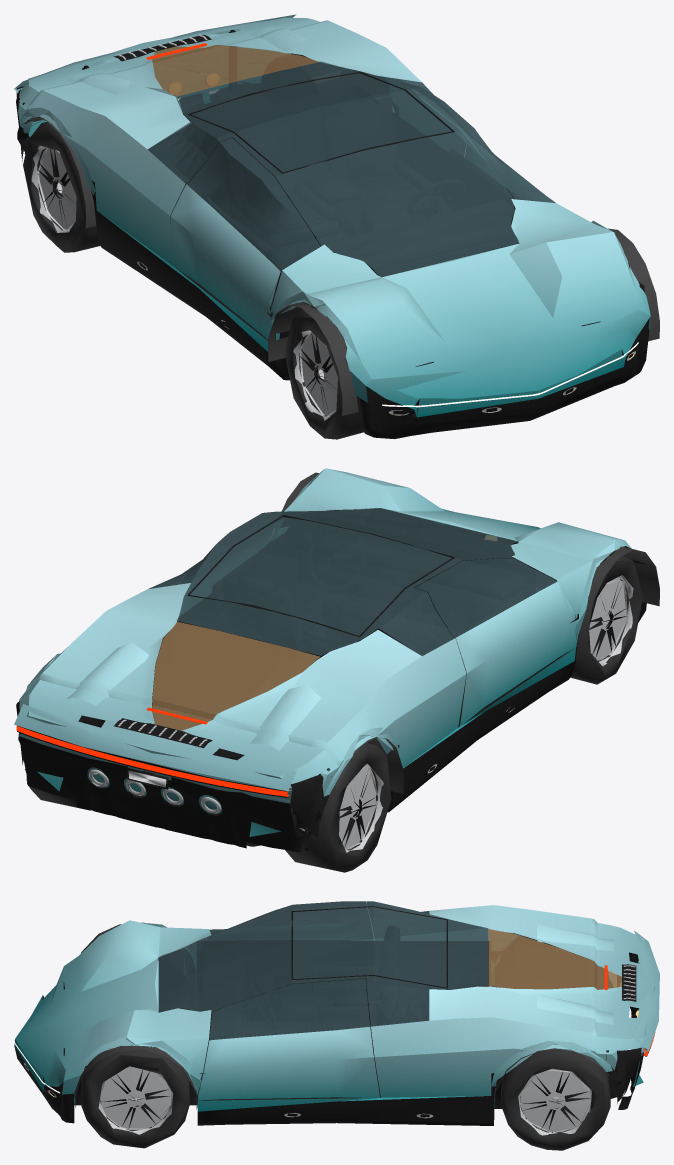
Rendered from roadsterII_cyan_phone.glb.
3 renders of one model, top to bottom at view 1: azimuth 30°, elevation 25°; view 2: azimuth 150°, elevation 25°; view 3: azimuth 270°, elevation 25°, orthographic. The views are drawn at different scales.
Parts seen in each view (by area): view 1: Body, Wheels; view 2: Body, Wheels; view 3: Body, Wheels.
Part boxes in pixels (<box>): Body: <box>14,14,659,439</box>; Wheels: <box>23,122,363,439</box>; Body: <box>14,468,659,852</box>; Wheels: <box>26,556,643,872</box>; Body: <box>14,901,659,1125</box>; Wheels: <box>81,968,610,1150</box>.
Bounding box in the file's own units: 2.04 × 1.15 × 4.39.
